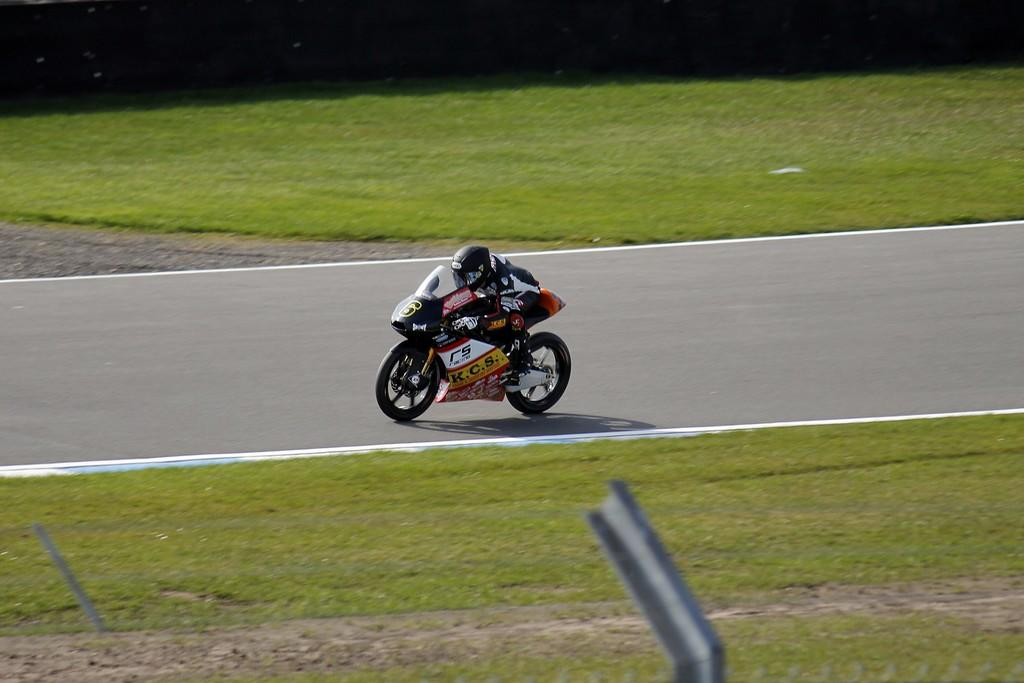helmet: (450, 244, 491, 292)
